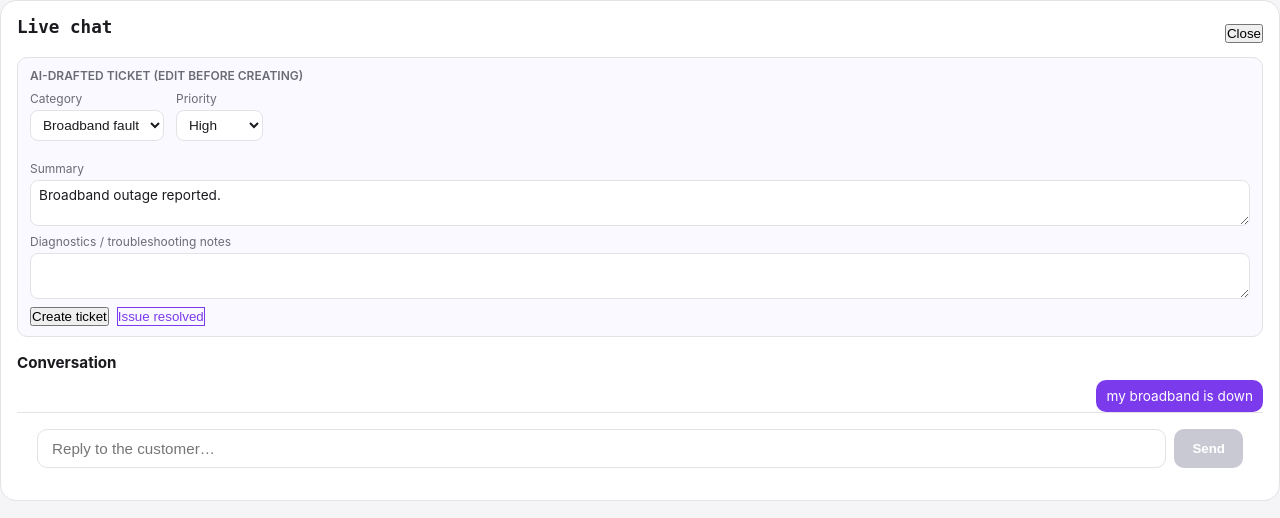
StaffChatWindow › creates a ticket from the (possibly edited) draft and notifies the parent
Step 1. Select "Urgent" in the dropdown labelled "Priority" → (220, 126), box x1=176 y1=110 x2=263 y2=141
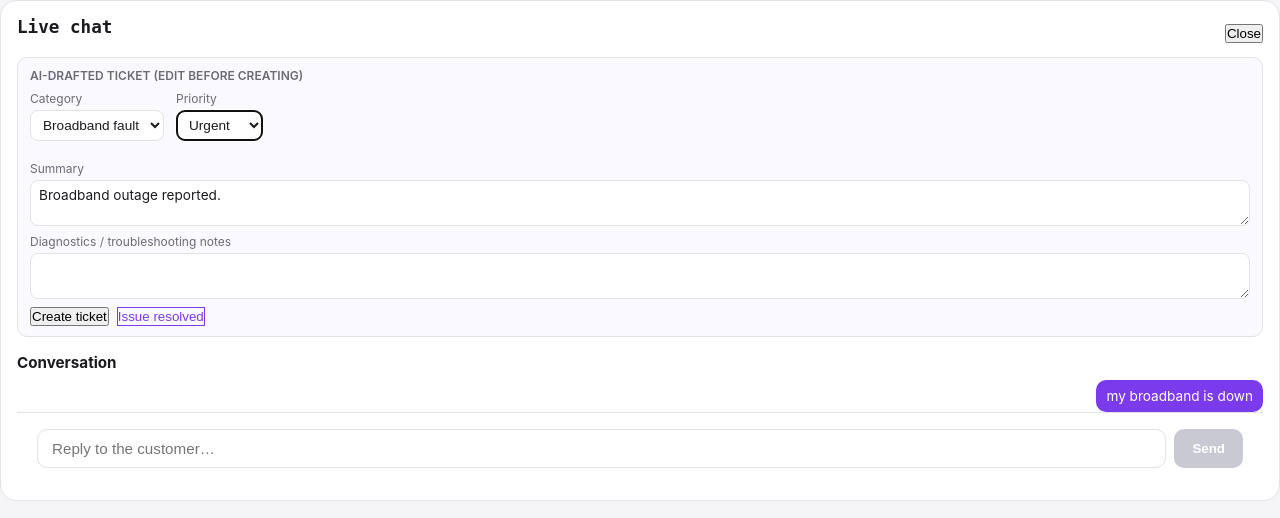
Step 2. Click the button "Create ticket" → (69, 316), box x1=30 y1=307 x2=109 y2=326
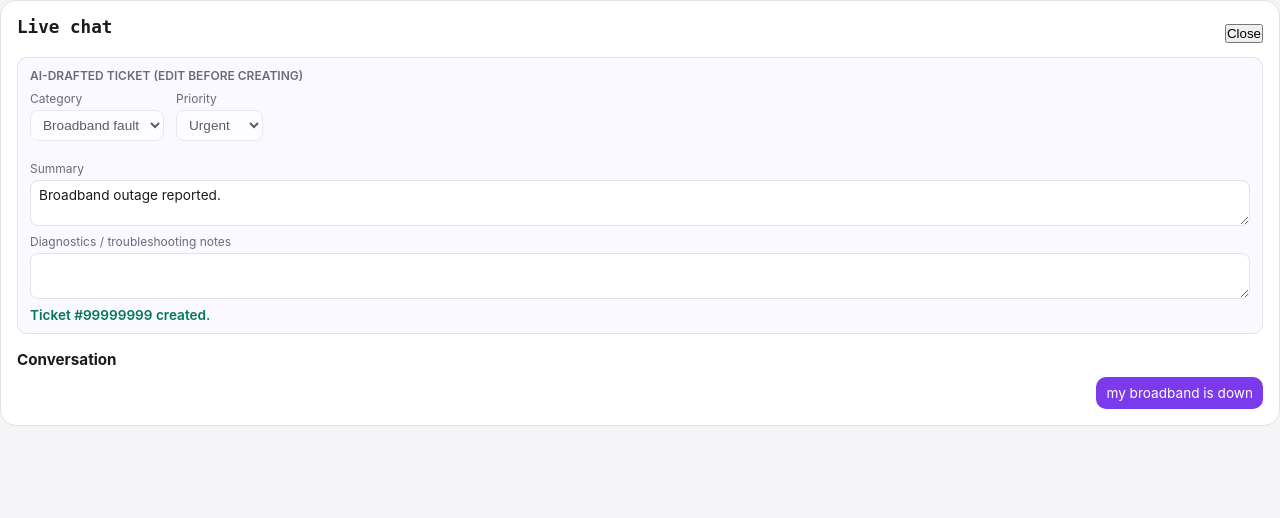
Result: the text "Ticket #99999999 created." is shown at x1=30 y1=307 x2=210 y2=323
